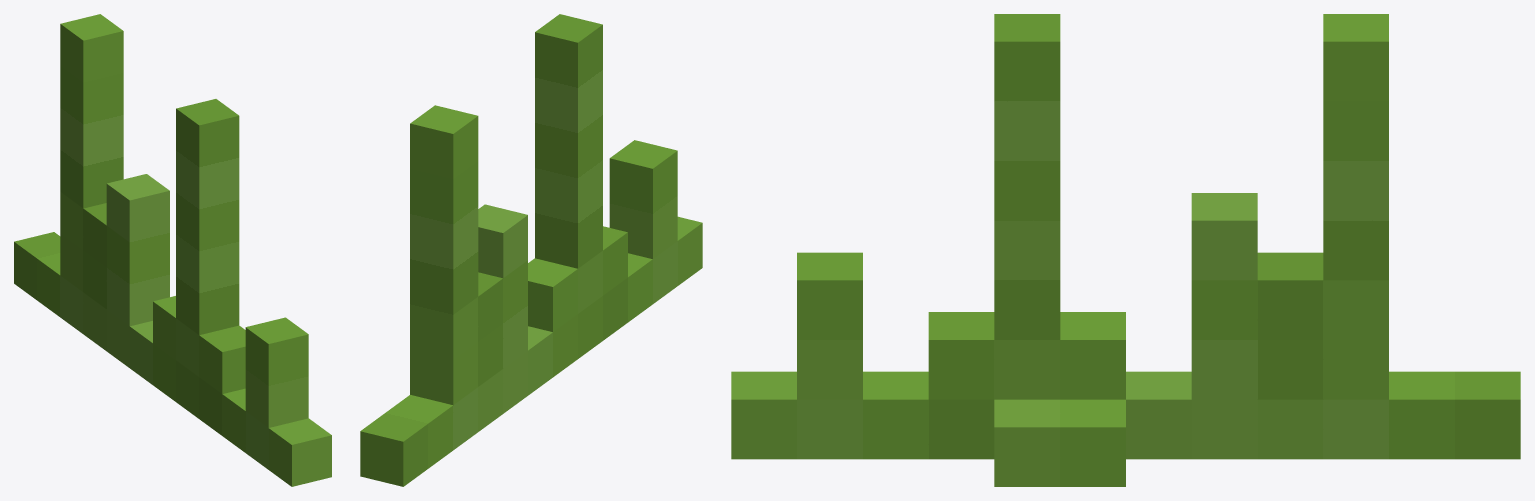
File: grass_1.fbx
3 renders of one model, left to right at view 1: azimuth 30°, elevation 25°; view 2: azimuth 150°, elevation 25°; view 3: azimuth 270°, elevation 25°, orthographic. The views are drawn at different scales.
Parts seen in each view (by area): view 1: grass_1; view 2: grass_1; view 3: grass_1.
Boxes of the visible parts, left/top/right/bottom form: grass_1: left=14, top=14, right=331, bottom=486; grass_1: left=360, top=14, right=702, bottom=486; grass_1: left=731, top=14, right=1520, bottom=486.
Size of the model in its own units: 2 by 7 by 12.
1 material, 1 textured.
